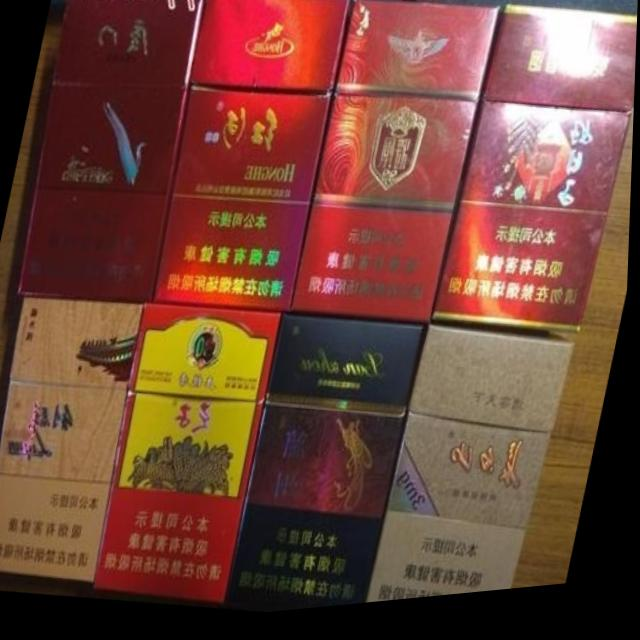box: (292, 4, 500, 330), (434, 14, 638, 345), (155, 0, 352, 317), (227, 318, 427, 616), (371, 333, 577, 610), (99, 306, 284, 608), (20, 0, 203, 305), (0, 297, 146, 585)
